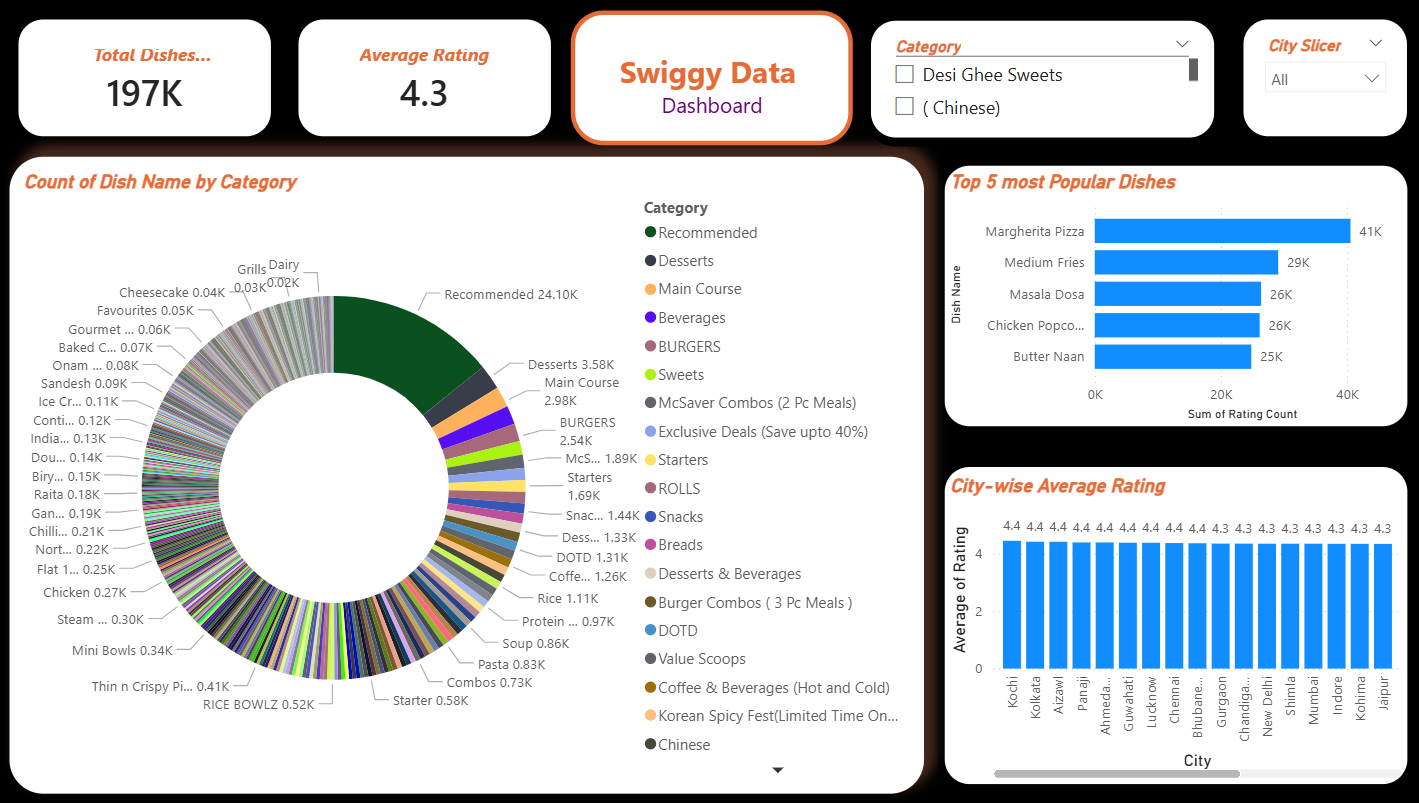

The page's visual inventory and layout, read from the dashboard file:
{"tool":"powerbi","page":{"name":"Page 1","canvas":[1280,720],"ordinal":0},"visuals":[{"type":"cardVisual","fields":{"Data":["CountNonNull(swiggy.Dish Name)"]},"box":[11,11,240.5,120.2],"z":0},{"type":"cardVisual","fields":{"Data":["Avg(swiggy.Rating)"]},"box":[260.1,11,240.5,120.2],"z":1},{"type":"clusteredColumnChart","title":"City-wise Average Rating","fields":{"Category":["swiggy.City"],"Y":["Avg(swiggy.Rating)"]},"box":[835.6,409.8,428.2,298.2],"z":2},{"type":"clusteredBarChart","title":"Top 5 most Popular Dishes","fields":{"Category":["swiggy.Dish Name"],"Y":["Sum(swiggy.Rating Count)"]},"box":[835.6,141.1,428.2,247.9],"z":3},{"type":"donutChart","fields":{"Category":["swiggy.Category"],"Y":["CountNonNull(swiggy.Dish Name)"]},"box":[11,141.1,814.7,566.9],"z":4},{"type":"slicer","fields":{"Values":["swiggy.City"]},"box":[1101.8,11,162,120.2],"z":5},{"type":"slicer","fields":{"Values":["swiggy.Category"]},"box":[770.6,12.3,321.5,120.2],"z":6},{"type":"textbox","box":[510.4,11,251.5,120.2],"z":7}]}

Visuals, with their boxes in screenshot pixels (x1, y1, x2, y2), scaled from the page's 1280x720 canvas onto the 1419x803 screenshot:
cardVisual - CountNonNull(swiggy.Dish Name): {"x1": 12, "y1": 12, "x2": 279, "y2": 146}
cardVisual - Avg(swiggy.Rating): {"x1": 288, "y1": 12, "x2": 555, "y2": 146}
"City-wise Average Rating" clusteredColumnChart: {"x1": 926, "y1": 457, "x2": 1401, "y2": 790}
"Top 5 most Popular Dishes" clusteredBarChart: {"x1": 926, "y1": 157, "x2": 1401, "y2": 434}
donutChart - swiggy.Category x CountNonNull(swiggy.Dish Name): {"x1": 12, "y1": 157, "x2": 915, "y2": 790}
slicer - swiggy.City: {"x1": 1221, "y1": 12, "x2": 1401, "y2": 146}
slicer - swiggy.Category: {"x1": 854, "y1": 14, "x2": 1211, "y2": 148}
textbox: {"x1": 566, "y1": 12, "x2": 845, "y2": 146}
